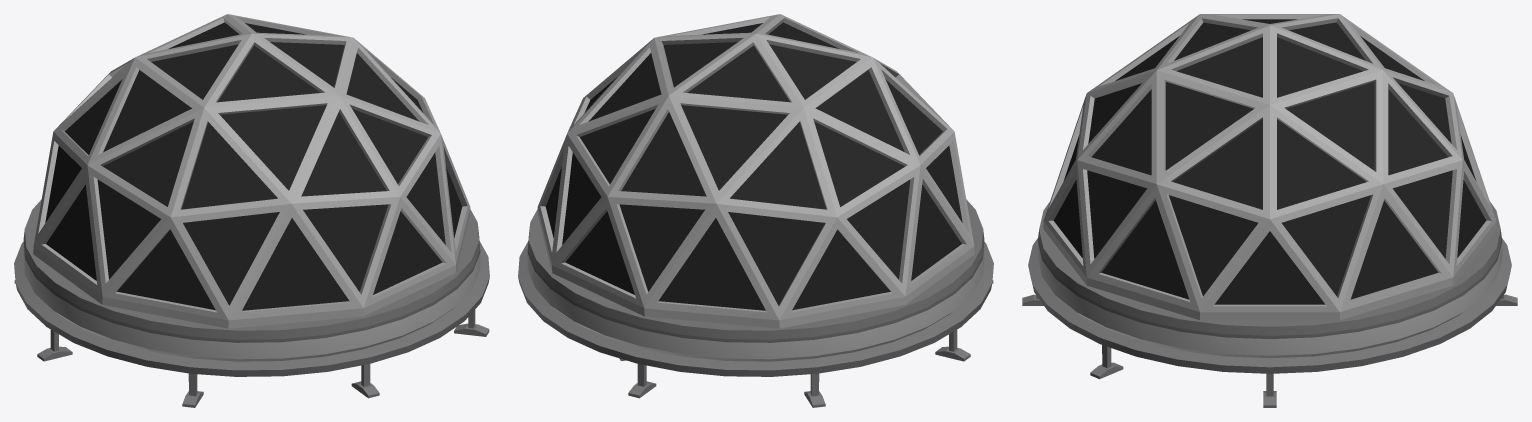
Rendered from dome.glb.
3 views of the same model, side by side, from view 1: azimuth 30°, elevation 25°; view 2: azimuth 150°, elevation 25°; view 3: azimuth 270°, elevation 25° (orthographic).
Visible parts, largest first — view 1: GeodesicDome; view 2: GeodesicDome; view 3: GeodesicDome.
Boxes of the visible parts, bbox=[...] form: GeodesicDome: bbox=[14, 14, 489, 407]; GeodesicDome: bbox=[518, 14, 993, 407]; GeodesicDome: bbox=[1022, 14, 1517, 407].
Bounding box in the file's own units: 8.53 × 5.28 × 8.53.
Materials: 1 (1 with a texture image).
